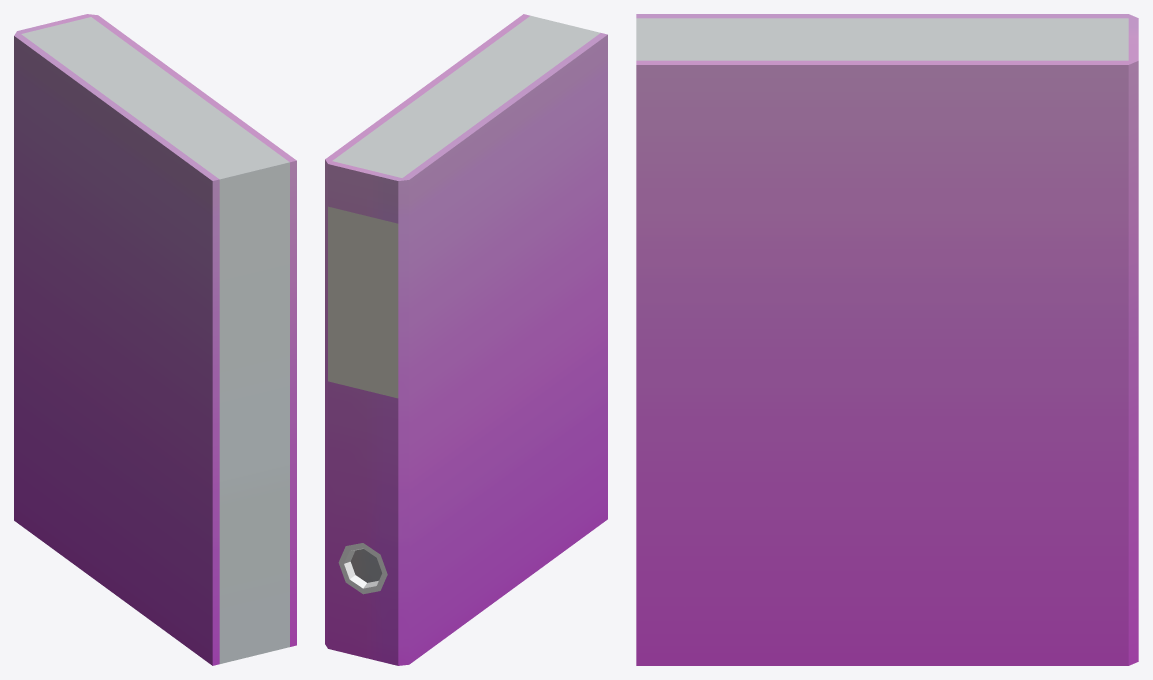
The model's file is Pfb_JLAB_Folder.fbx.
3 renders of one model, left to right at view 1: azimuth 30°, elevation 25°; view 2: azimuth 150°, elevation 25°; view 3: azimuth 270°, elevation 25°, orthographic. The views are drawn at different scales.
Visible parts, largest first — view 1: Color; view 2: Color, Metal; view 3: Color.
Part boxes in pixels (x1=…): Color: x1=14, y1=14, x2=296, y2=665; Color: x1=325, y1=14, x2=607, y2=665; Metal: x1=338, y1=543, x2=387, y2=594; Color: x1=636, y1=14, x2=1138, y2=665.
Size of the model in its own units: 0.06 by 0.33 by 0.25.
2 materials, 2 textured.
